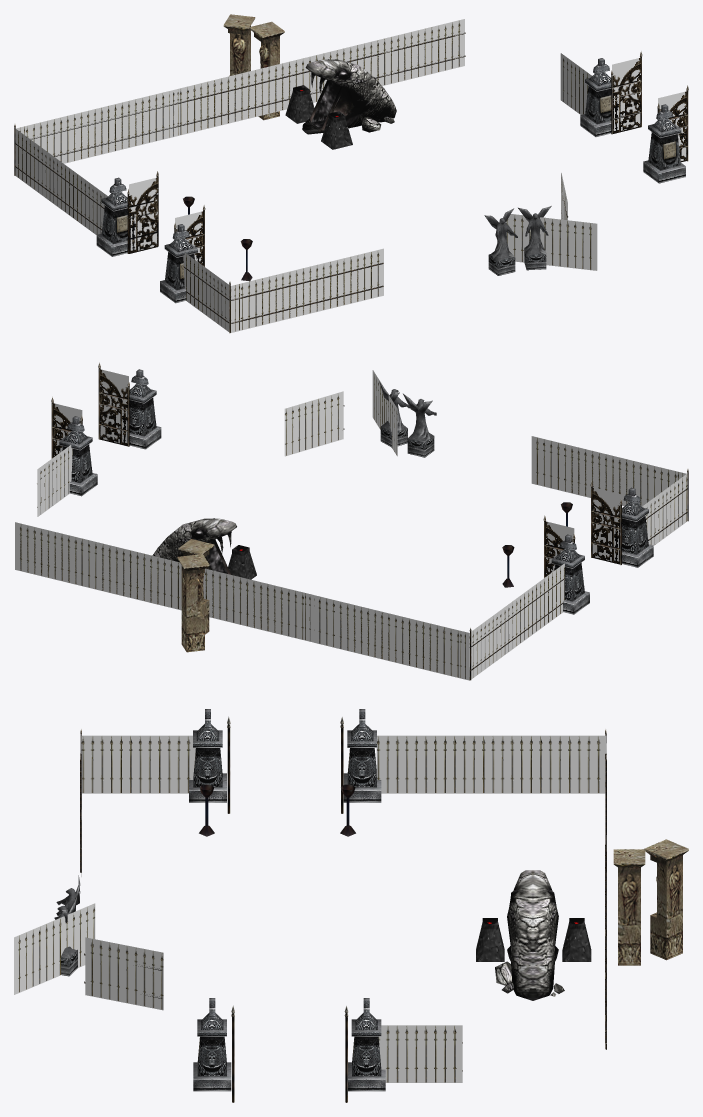
File: yewaifangzi_002.FBX
3 views of the same model, one above another, from view 1: azimuth 30°, elevation 25°; view 2: azimuth 150°, elevation 25°; view 3: azimuth 270°, elevation 25° (orthographic). The views are drawn at different scales.
Visible parts, largest first — view 1: Object005, shidun_001, shetou_002, shixiang_003; view 2: Object005, shidun_001, shetou_002, shixiang_003; view 3: Object005, shetou_002, shidun_001, shixiang_003, yewaideng_002.
Boxes of the visible parts, x1,y1,x2,y2 form: Object005: [15, 19, 686, 332]; shidun_001: [14, 32, 688, 333]; shetou_002: [223, 14, 396, 149]; shixiang_003: [484, 206, 551, 275]; Object005: [15, 369, 687, 680]; shidun_001: [37, 362, 688, 680]; shetou_002: [152, 518, 256, 652]; shixiang_003: [379, 381, 436, 457]; Object005: [14, 735, 606, 1082]; shetou_002: [476, 839, 688, 1000]; shidun_001: [80, 709, 606, 1102]; shixiang_003: [54, 875, 80, 976]; yewaideng_002: [199, 784, 355, 836].
Bounding box in the file's own units: 2595 × 402 × 2339.
